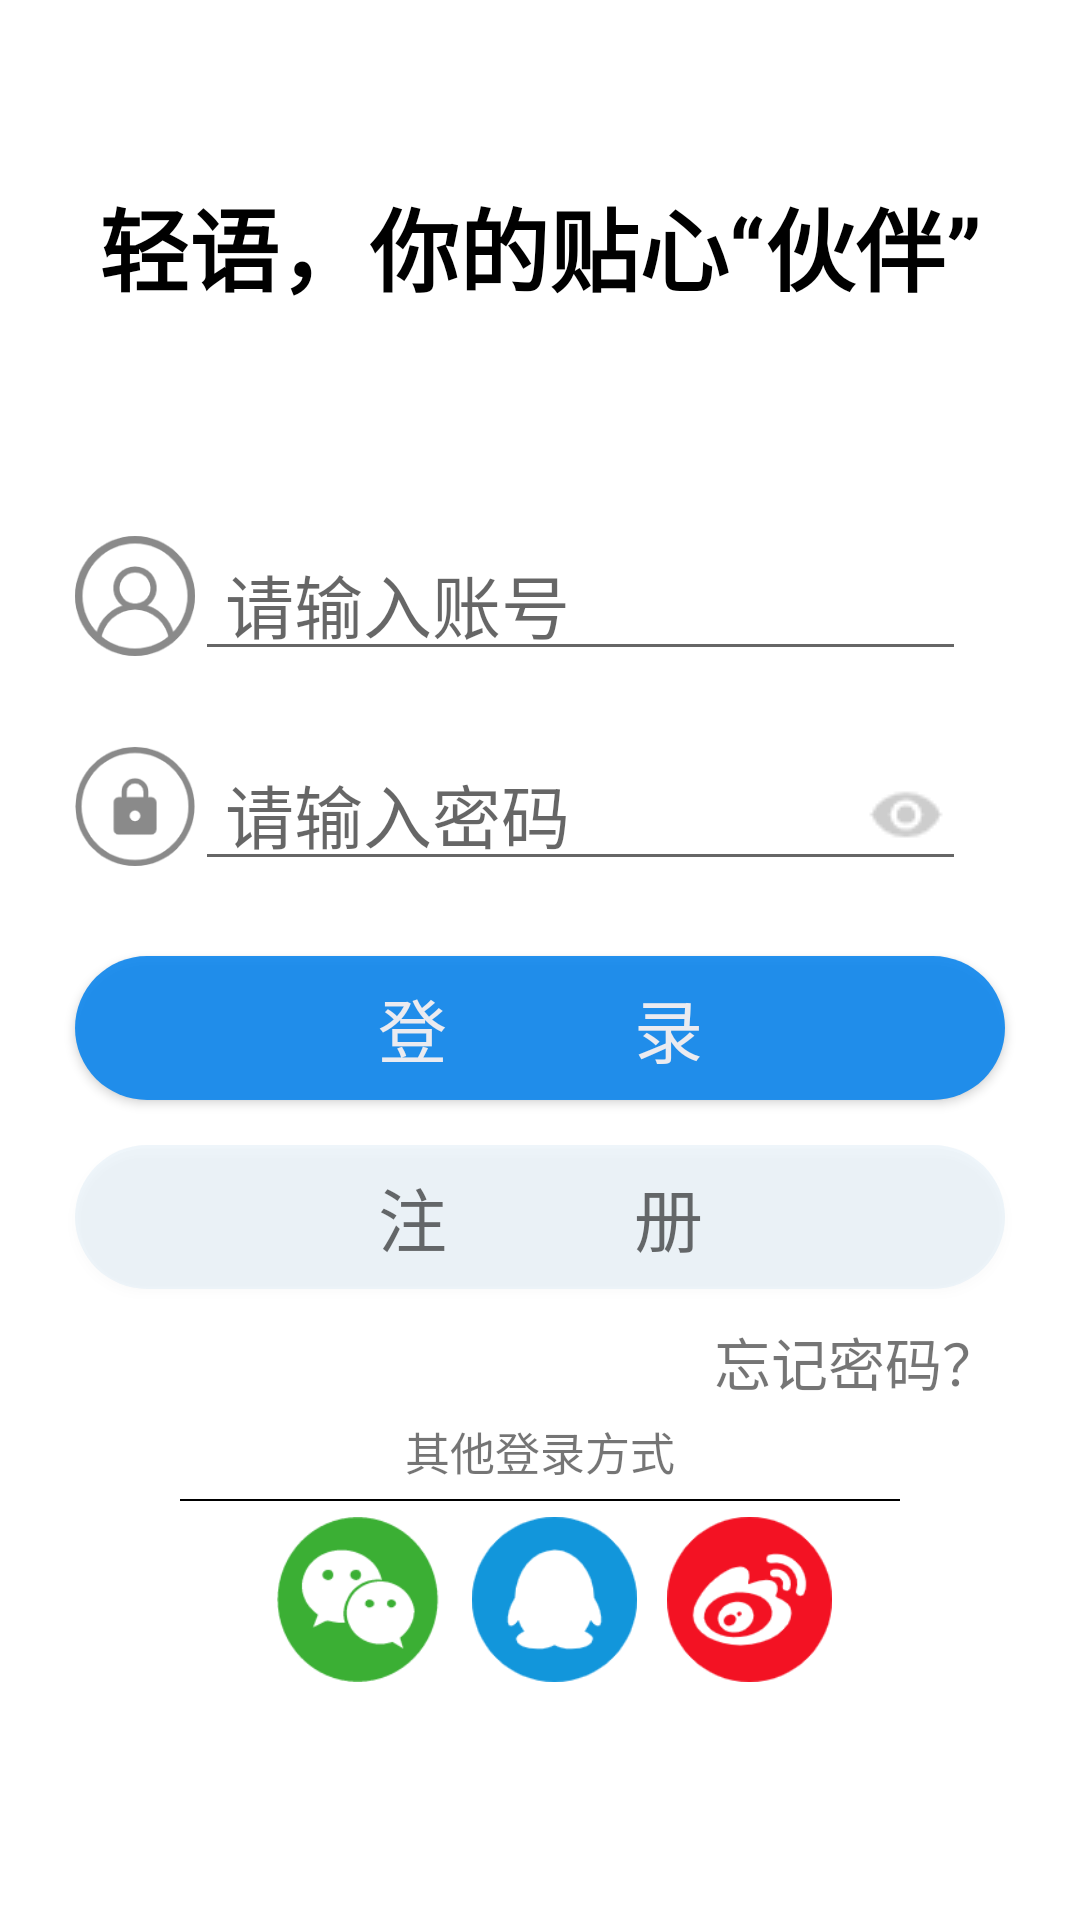

Icons on this 1080x1920 Android screen, each with its box as {"x1": x1, "y1": y1, "x2": x2, "y2": y2}:
username: {"x1": 75, "y1": 536, "x2": 195, "y2": 656}
